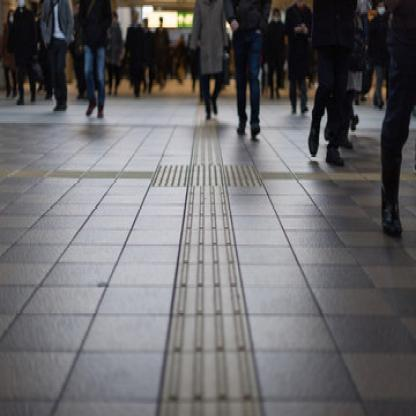podotacti: (1, 119, 416, 416)
